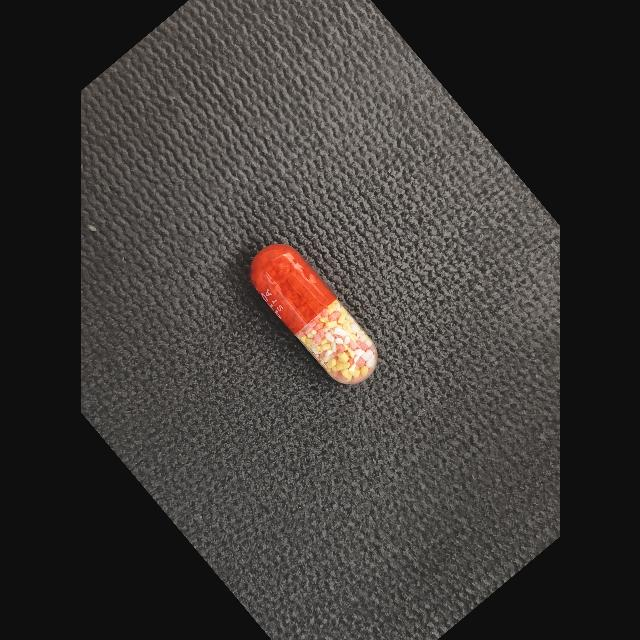Intact Capsule: (250, 244, 377, 384)
